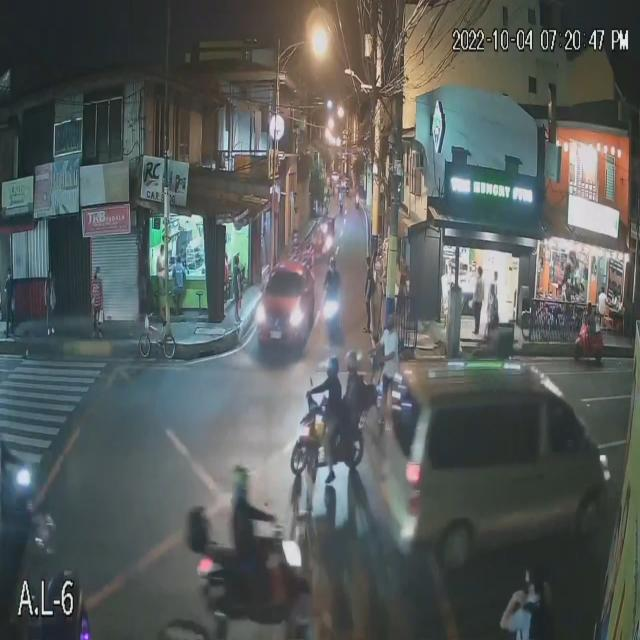Full-Faced: (232, 464, 252, 498), (341, 341, 359, 377), (324, 354, 339, 382)
